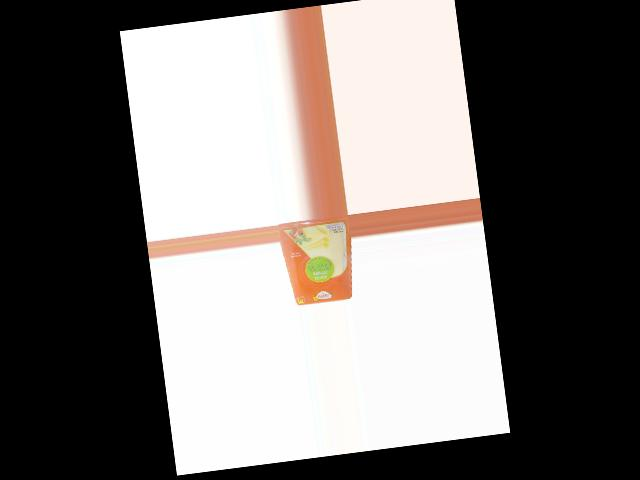cheese: (277, 214, 357, 306)
